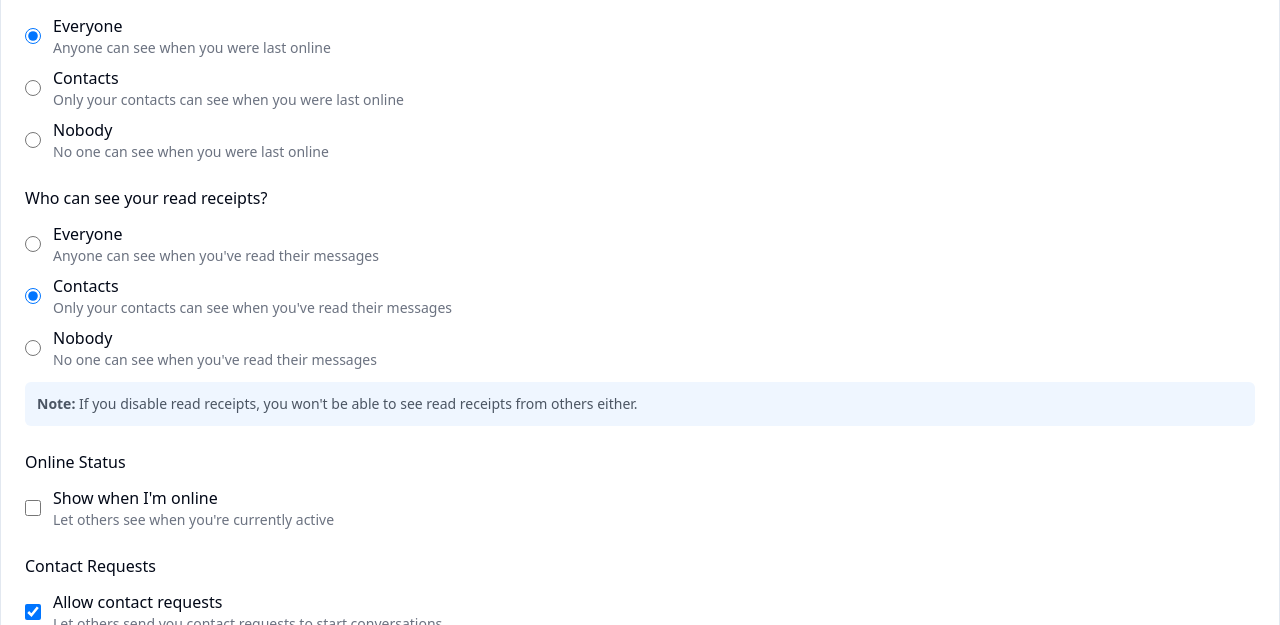
Scenario: PrivacySettings › shows loading state during submission
Make a change
Click the radio button showing "nobody" at [33, 140], box [25,132,41,148]
(page scrolled)
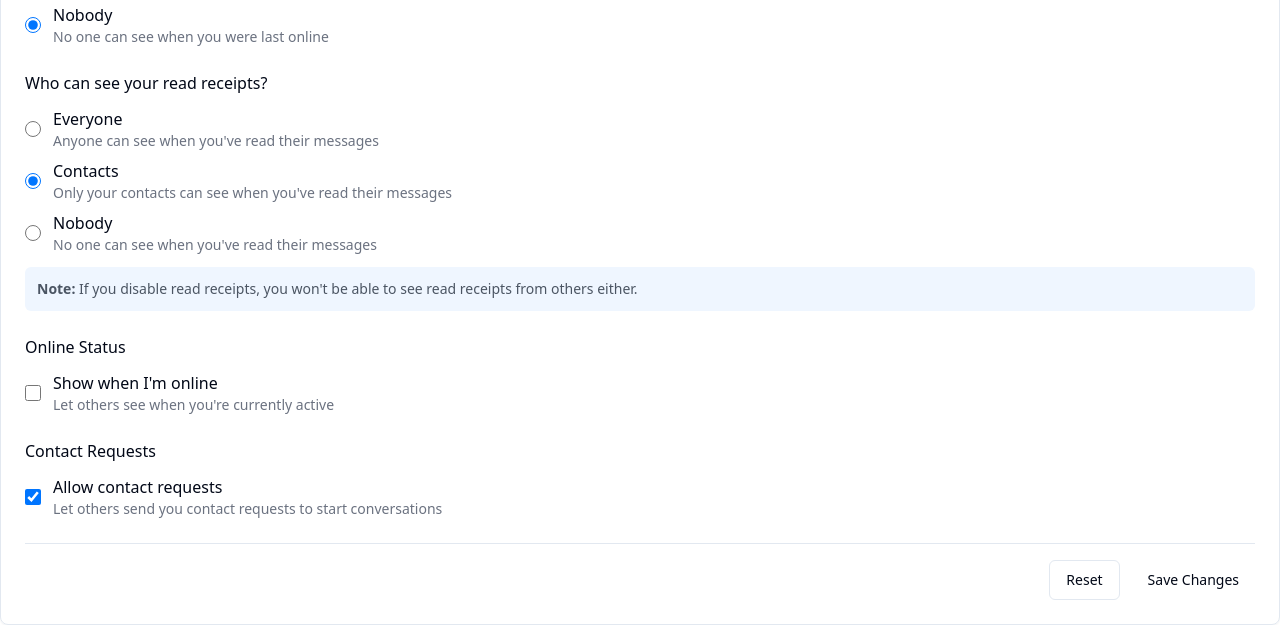
Click the button "Save Changes" at [1193, 580], box [1132,560,1255,600]
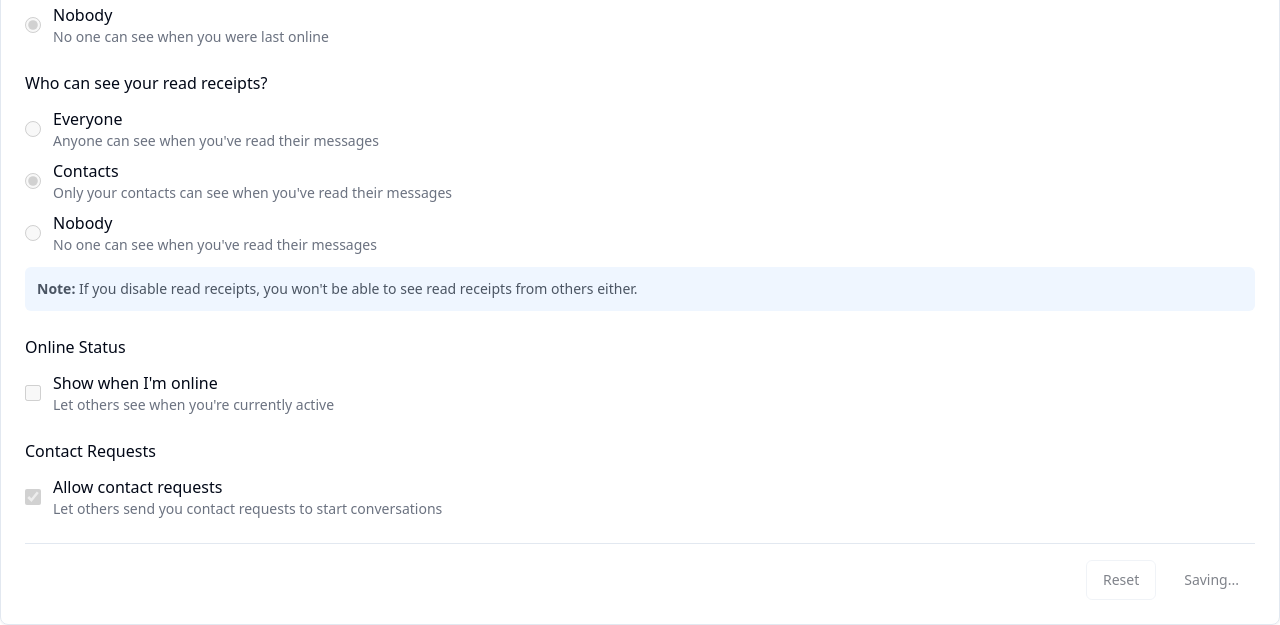
Result: the text "Saving..." is shown at [1184,570,1239,590]
Result: the radio button showing "nobody" is disabled at [25,17,41,33]
